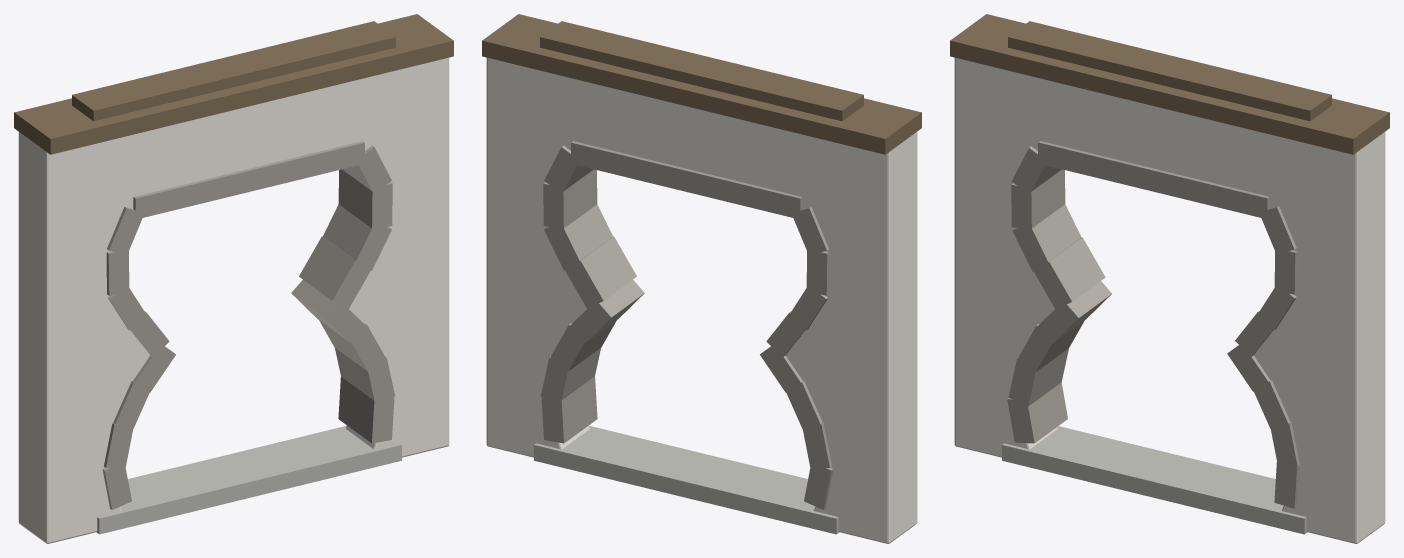
File: gourd-gate.glb
3 renders of one model, left to right at view 1: azimuth 30°, elevation 25°; view 2: azimuth 150°, elevation 25°; view 3: azimuth 330°, elevation 25°, orthographic.
Parts seen in each view (by area): view 1: Wall, Coping, Threshold, Ridge, Voussoir.004, Voussoir, Voussoir.005, Voussoir.006, Voussoir.003, Voussoir.001, Voussoir.002, Voussoir.007 (+14 smaller); view 2: Wall, Coping, Threshold, Ridge, Voussoir.004, Voussoir, Voussoir.005, Voussoir.006, Voussoir.003, Voussoir.001, Voussoir.002, Voussoir.007 (+14 smaller); view 3: Wall, Coping, Threshold, Ridge, Voussoir.017, Voussoir.016, Voussoir.021, Voussoir.015, Voussoir.020, Voussoir.018, Voussoir.019, Voussoir.014 (+14 smaller).
Boxes of the visible parts, <box> form: Wall: <box>18,57,449,543</box>; Coping: <box>14,14,453,154</box>; Threshold: <box>96,426,401,534</box>; Ridge: <box>72,21,395,121</box>; Voussoir.004: <box>299,236,371,308</box>; Voussoir: <box>338,376,394,443</box>; Voussoir.005: <box>323,204,391,270</box>; Voussoir.006: <box>338,169,392,229</box>; Voussoir.003: <box>291,280,365,342</box>; Voussoir.001: <box>335,348,395,405</box>; Voussoir.002: <box>319,320,385,371</box>; Voussoir.007: <box>342,145,391,191</box>; Wall: <box>486,57,917,543</box>; Coping: <box>482,14,921,154</box>; Threshold: <box>534,426,839,534</box>; Ridge: <box>540,21,863,121</box>; Voussoir.004: <box>564,236,636,308</box>; Voussoir: <box>541,376,597,443</box>; Voussoir.005: <box>544,204,612,270</box>; Voussoir.006: <box>543,169,597,228</box>; Voussoir.003: <box>570,280,644,342</box>; Voussoir.001: <box>540,348,600,400</box>; Voussoir.002: <box>550,320,616,371</box>; Voussoir.007: <box>544,145,593,193</box>; Wall: <box>954,57,1385,543</box>; Coping: <box>950,14,1389,154</box>; Threshold: <box>1002,426,1307,534</box>; Ridge: <box>1008,21,1331,121</box>; Voussoir.017: <box>1033,237,1105,309</box>; Voussoir.016: <box>1012,204,1081,271</box>; Voussoir.021: <box>1007,382,1067,443</box>; Voussoir.015: <box>1011,169,1065,231</box>; Voussoir.020: <box>1008,348,1068,406</box>; Voussoir.018: <box>1037,281,1111,343</box>; Voussoir.019: <box>1018,321,1084,372</box>; Voussoir.014: <box>1011,146,1061,194</box>.
Bounding box in the file's own units: 3.2 × 3.18 × 0.5.
